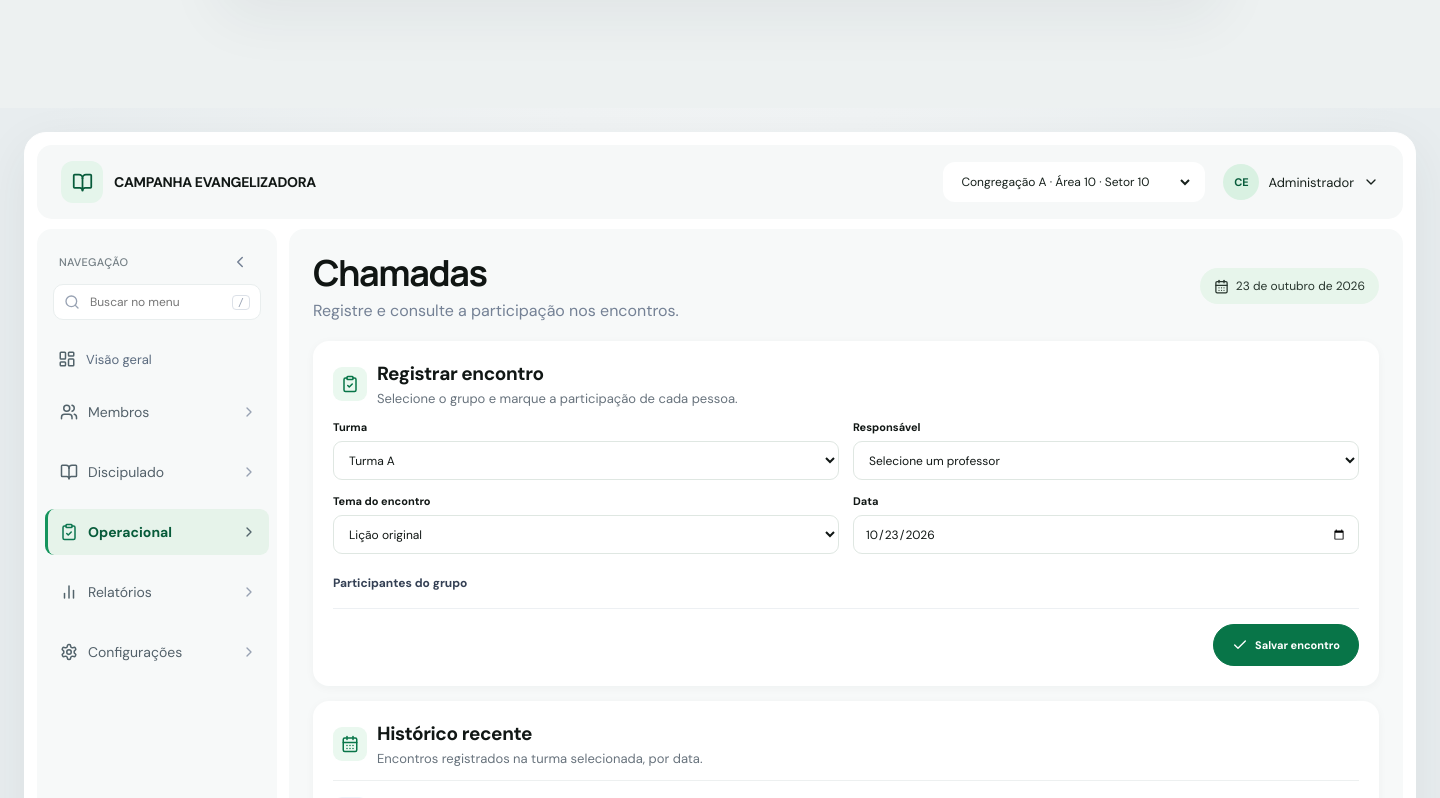
Test: aulas disponíveis para chamada › mostra no histórico apenas os encontros da turma selecionada e atualiza ao trocar
(page scrolled)
Expected: the text "Encontro exclusivo B" is not shown
Select "Turma B" in the dropdown labelled "Turma": (586, 461) [333,441,839,480]
(page scrolled)
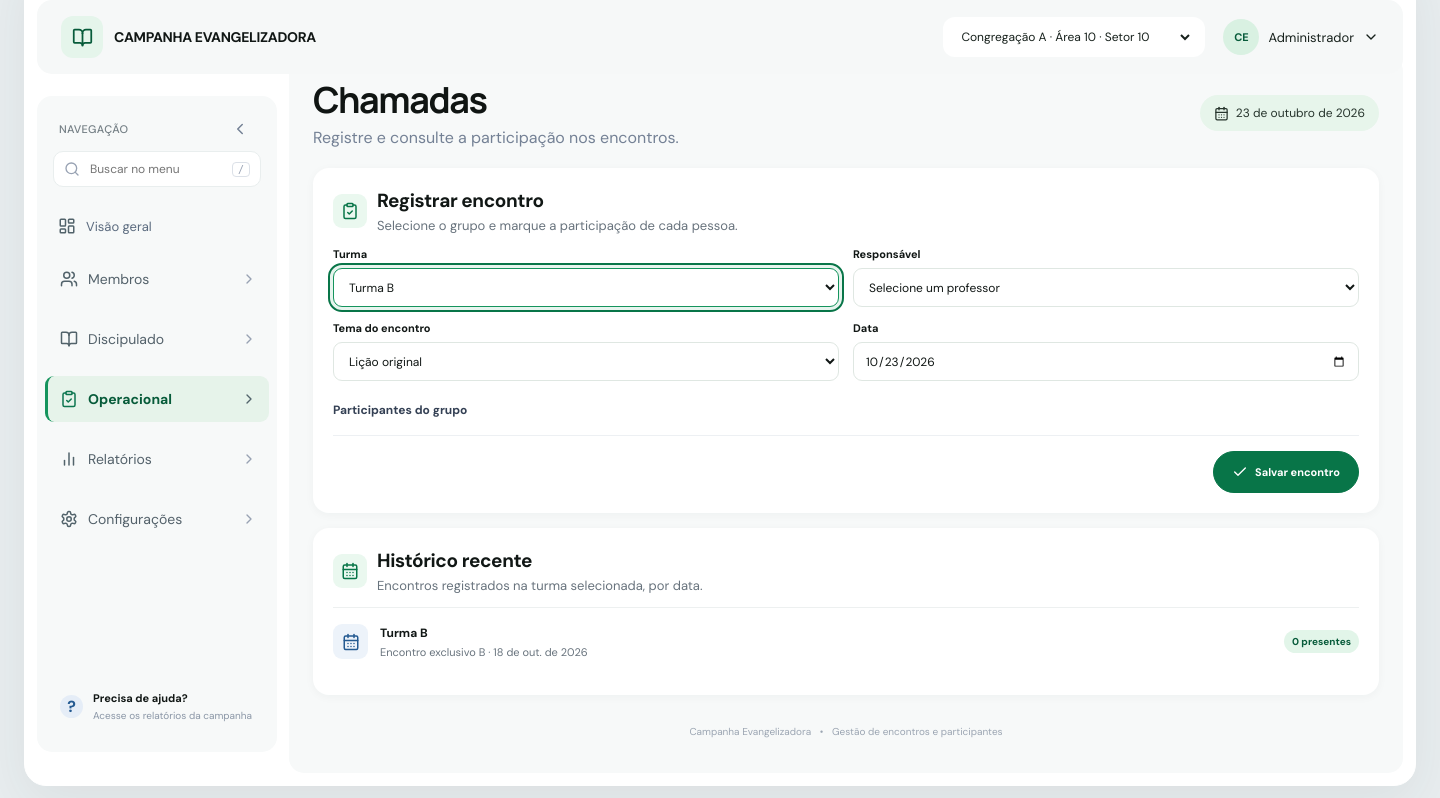
Expected: the text "Encontro exclusivo B · 18 de out. de 2026" is shown, [380,645,588,659]
